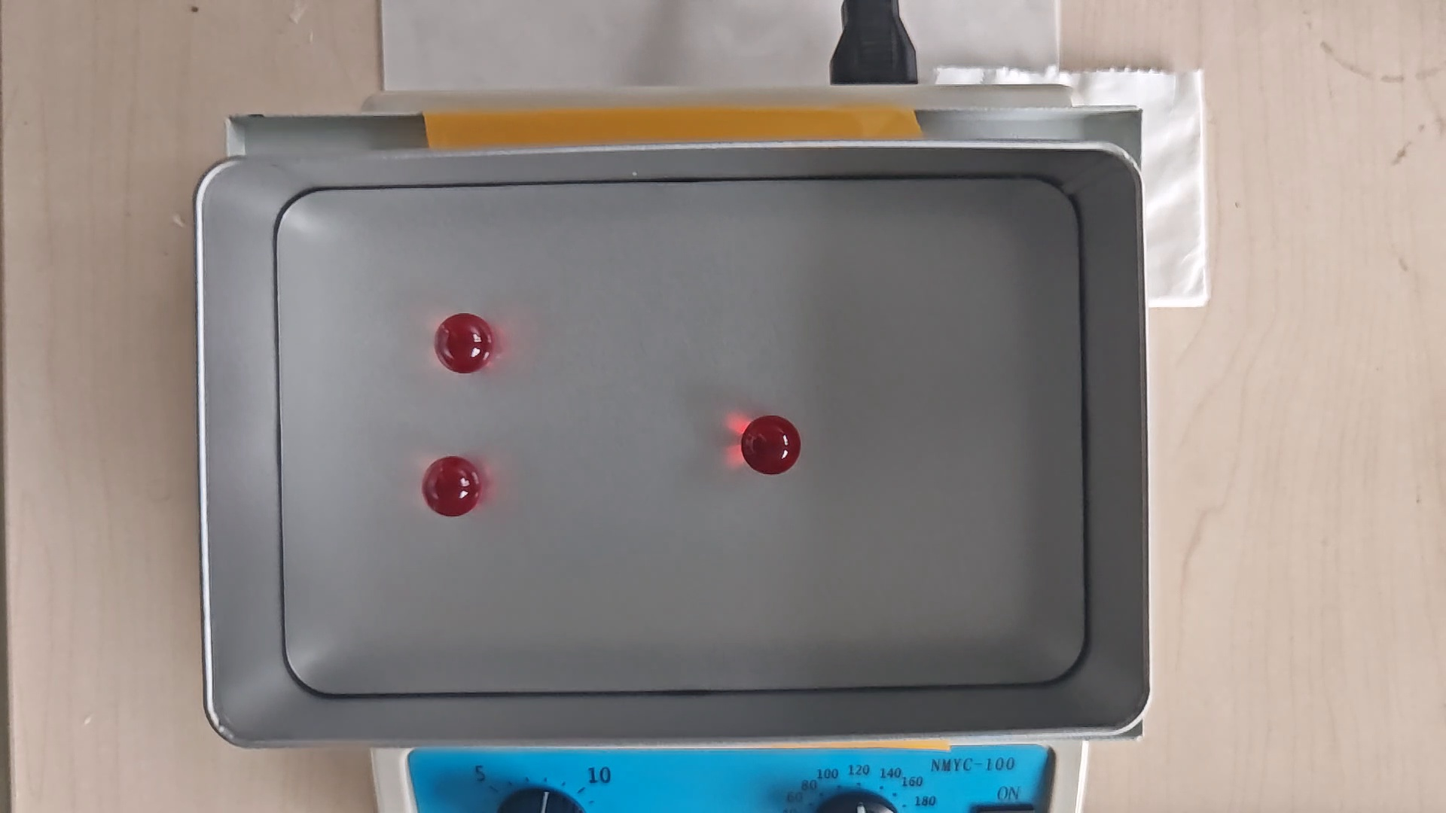ball: (422, 455, 482, 519), (742, 416, 803, 475), (438, 312, 493, 373)
container: (279, 178, 1084, 693)
